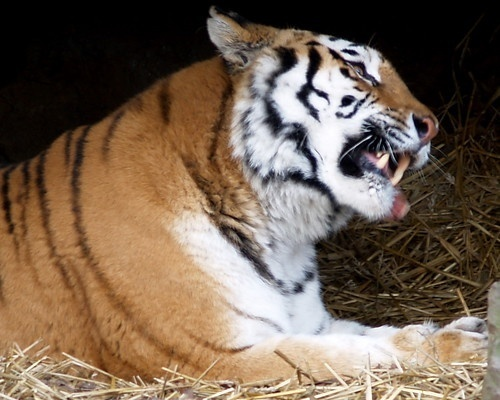tigre: (1, 4, 494, 386)
